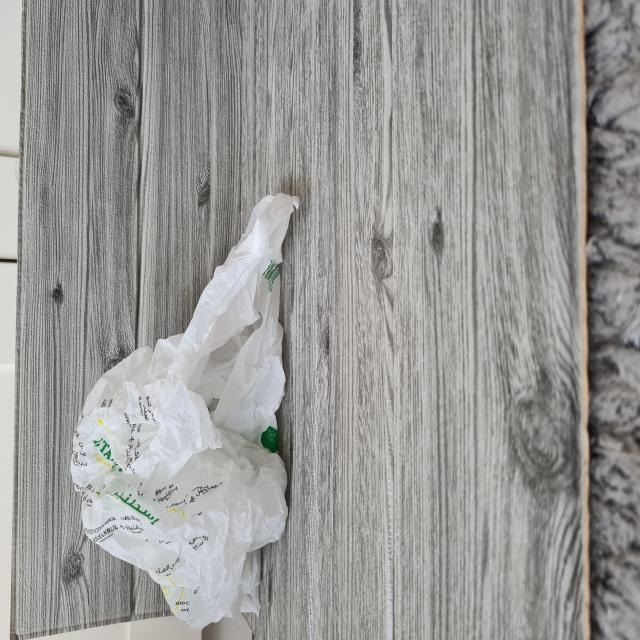plastic bag: (70, 192, 300, 624)
